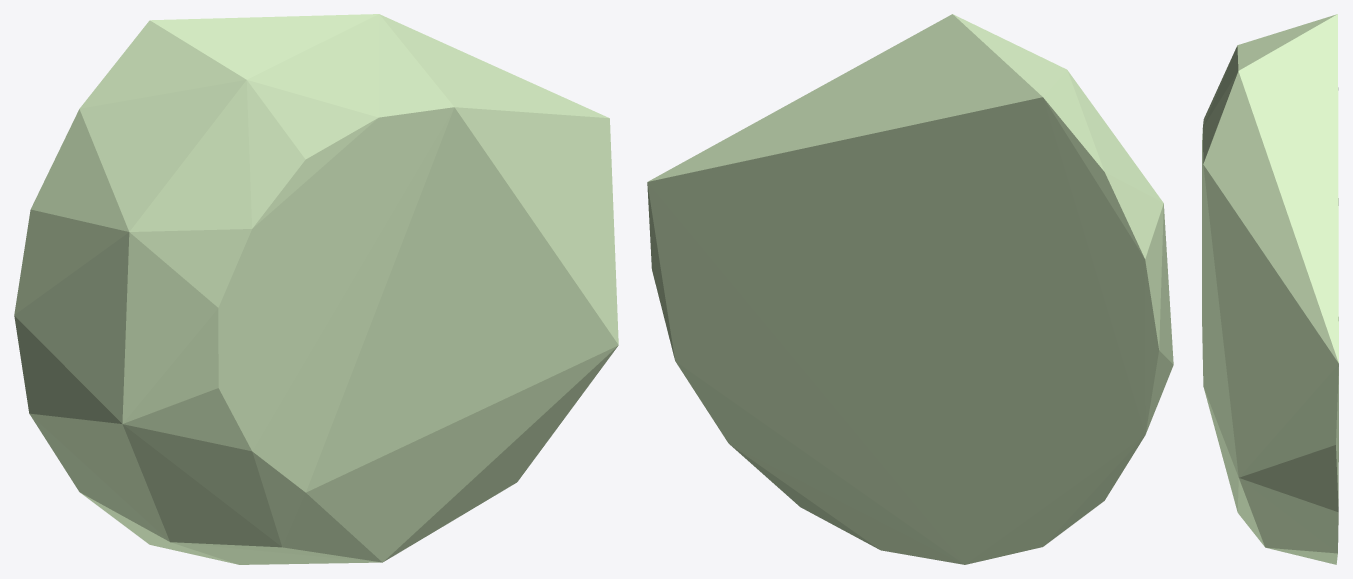
File: iiwa_link8_resp_coll_1.obj
3 renders of one model, left to right at view 1: azimuth 30°, elevation 25°; view 2: azimuth 150°, elevation 25°; view 3: azimuth 270°, elevation 25°, orthographic. The views are drawn at different scales.
Parts seen in each view (by area): view 1: node; view 2: node; view 3: node.
Boxes of the visible parts, box(x1,y1,x2,y2) form: node: box(14, 14, 618, 564); node: box(647, 14, 1173, 564); node: box(1202, 14, 1338, 564).
Bounding box in the file's own units: 0.1039 × 0.0975 × 0.0257.
